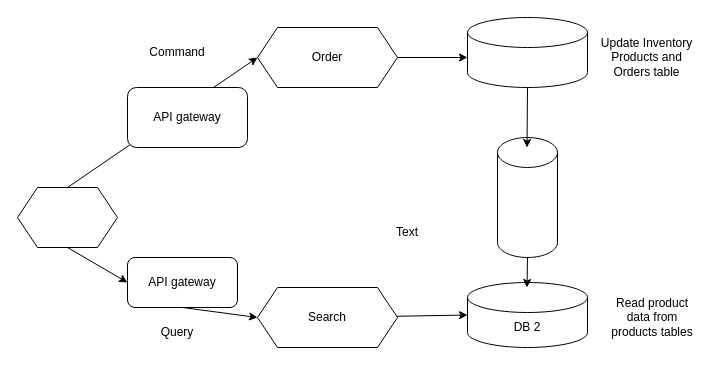
This 715x365 diagram has some shape labels left out. The shapes that lost their labels are listed below. From the top down, each one's centre as x and y in pixels, then its label:
At (x=527, y=52): "DB 1".
At (x=67, y=217): "UI".
At (x=527, y=197): "Event Bus".
